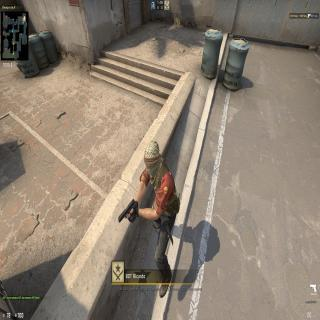T-Head: (142, 137, 162, 179)
